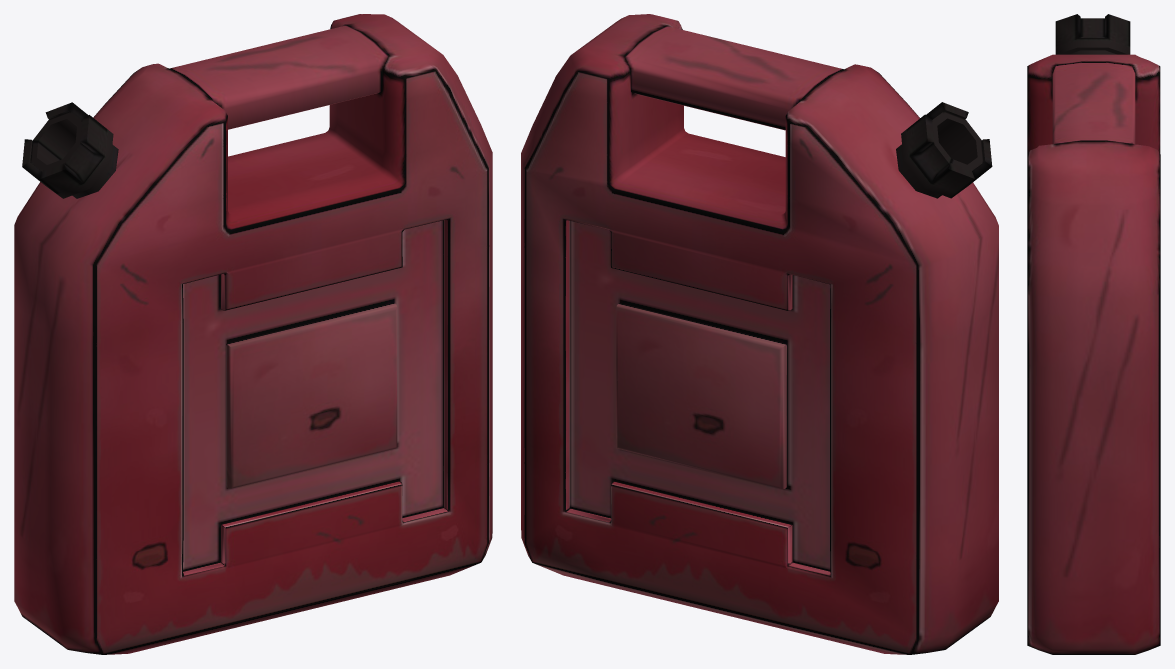
The model's file is gas_can.fbx.
3 views of the same model, side by side, from view 1: azimuth 30°, elevation 25°; view 2: azimuth 150°, elevation 25°; view 3: azimuth 270°, elevation 25° (orthographic). The views are drawn at different scales.
Visible parts, largest first — view 1: gas_can; view 2: gas_can; view 3: gas_can.
Part boxes in pixels (x1,y1,x2,y2): gas_can: [14, 14, 492, 654]; gas_can: [521, 14, 998, 654]; gas_can: [1027, 14, 1160, 654].
Size of the model in its own units: 48.04 by 55.18 by 13.85.
Materials: 1 (1 with a texture image).
